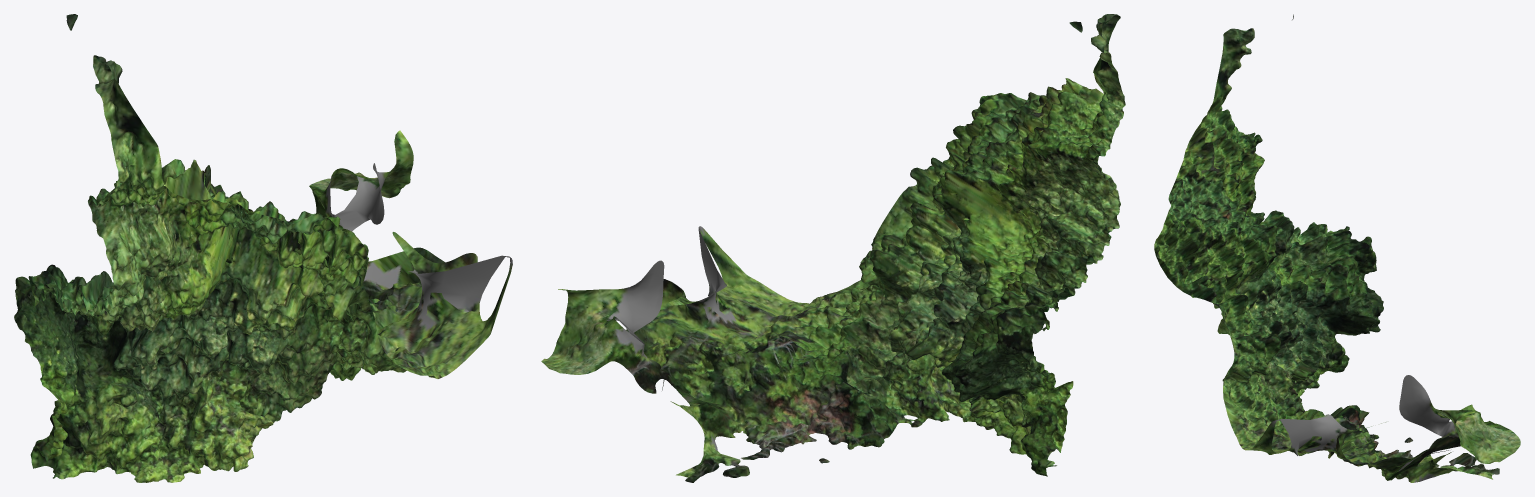
File: Tile_+016_+028.fbx
3 renders of one model, left to right at view 1: azimuth 30°, elevation 25°; view 2: azimuth 150°, elevation 25°; view 3: azimuth 270°, elevation 25°, orthographic. The views are drawn at different scales.
Parts seen in each view (by area): view 1: DefaultName; view 2: DefaultName; view 3: DefaultName.
Boxes of the visible parts, <box> form: DefaultName: <box>14,14,512,482</box>; DefaultName: <box>541,14,1125,482</box>; DefaultName: <box>1154,14,1520,482</box>.
Bounding box in the file's own units: 22.54 × 22.54 × 21.2.
